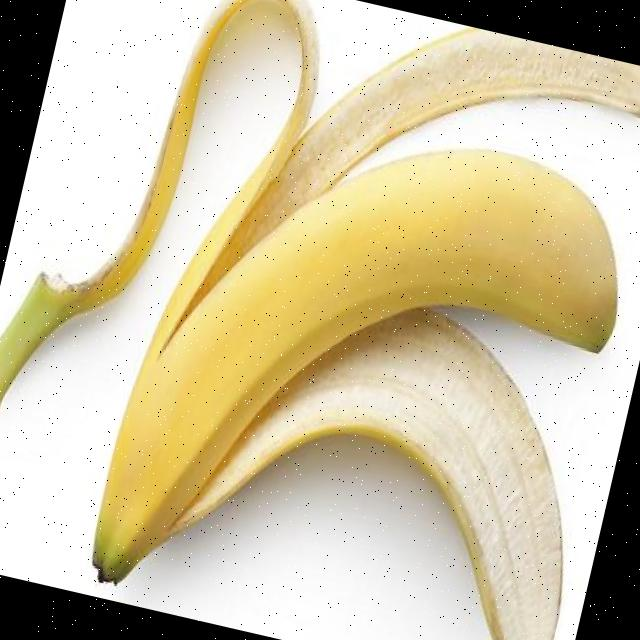banana-peel: (80, 77, 640, 640), (0, 0, 338, 469)
